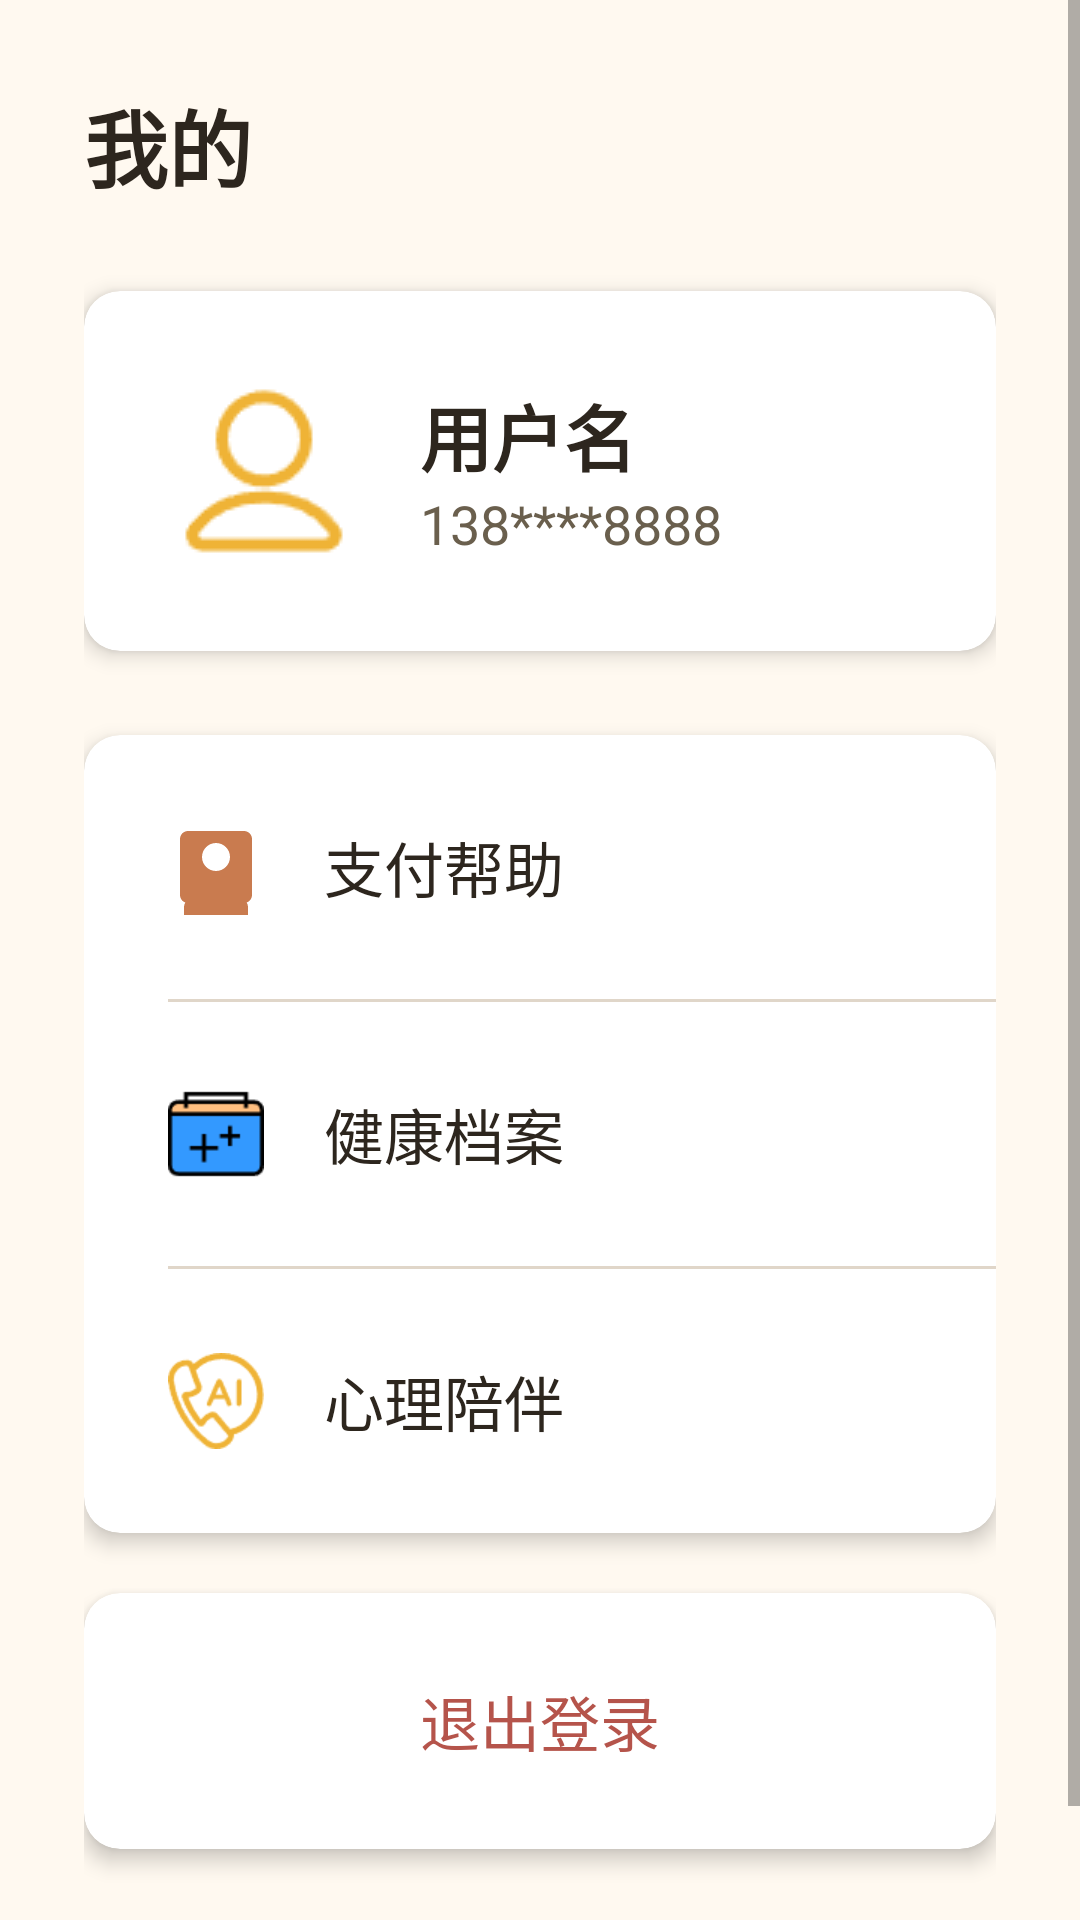

Icons on this 1080×1920 Android screen, each with the point to tap as point (x, y):
我的: point (264, 471)
